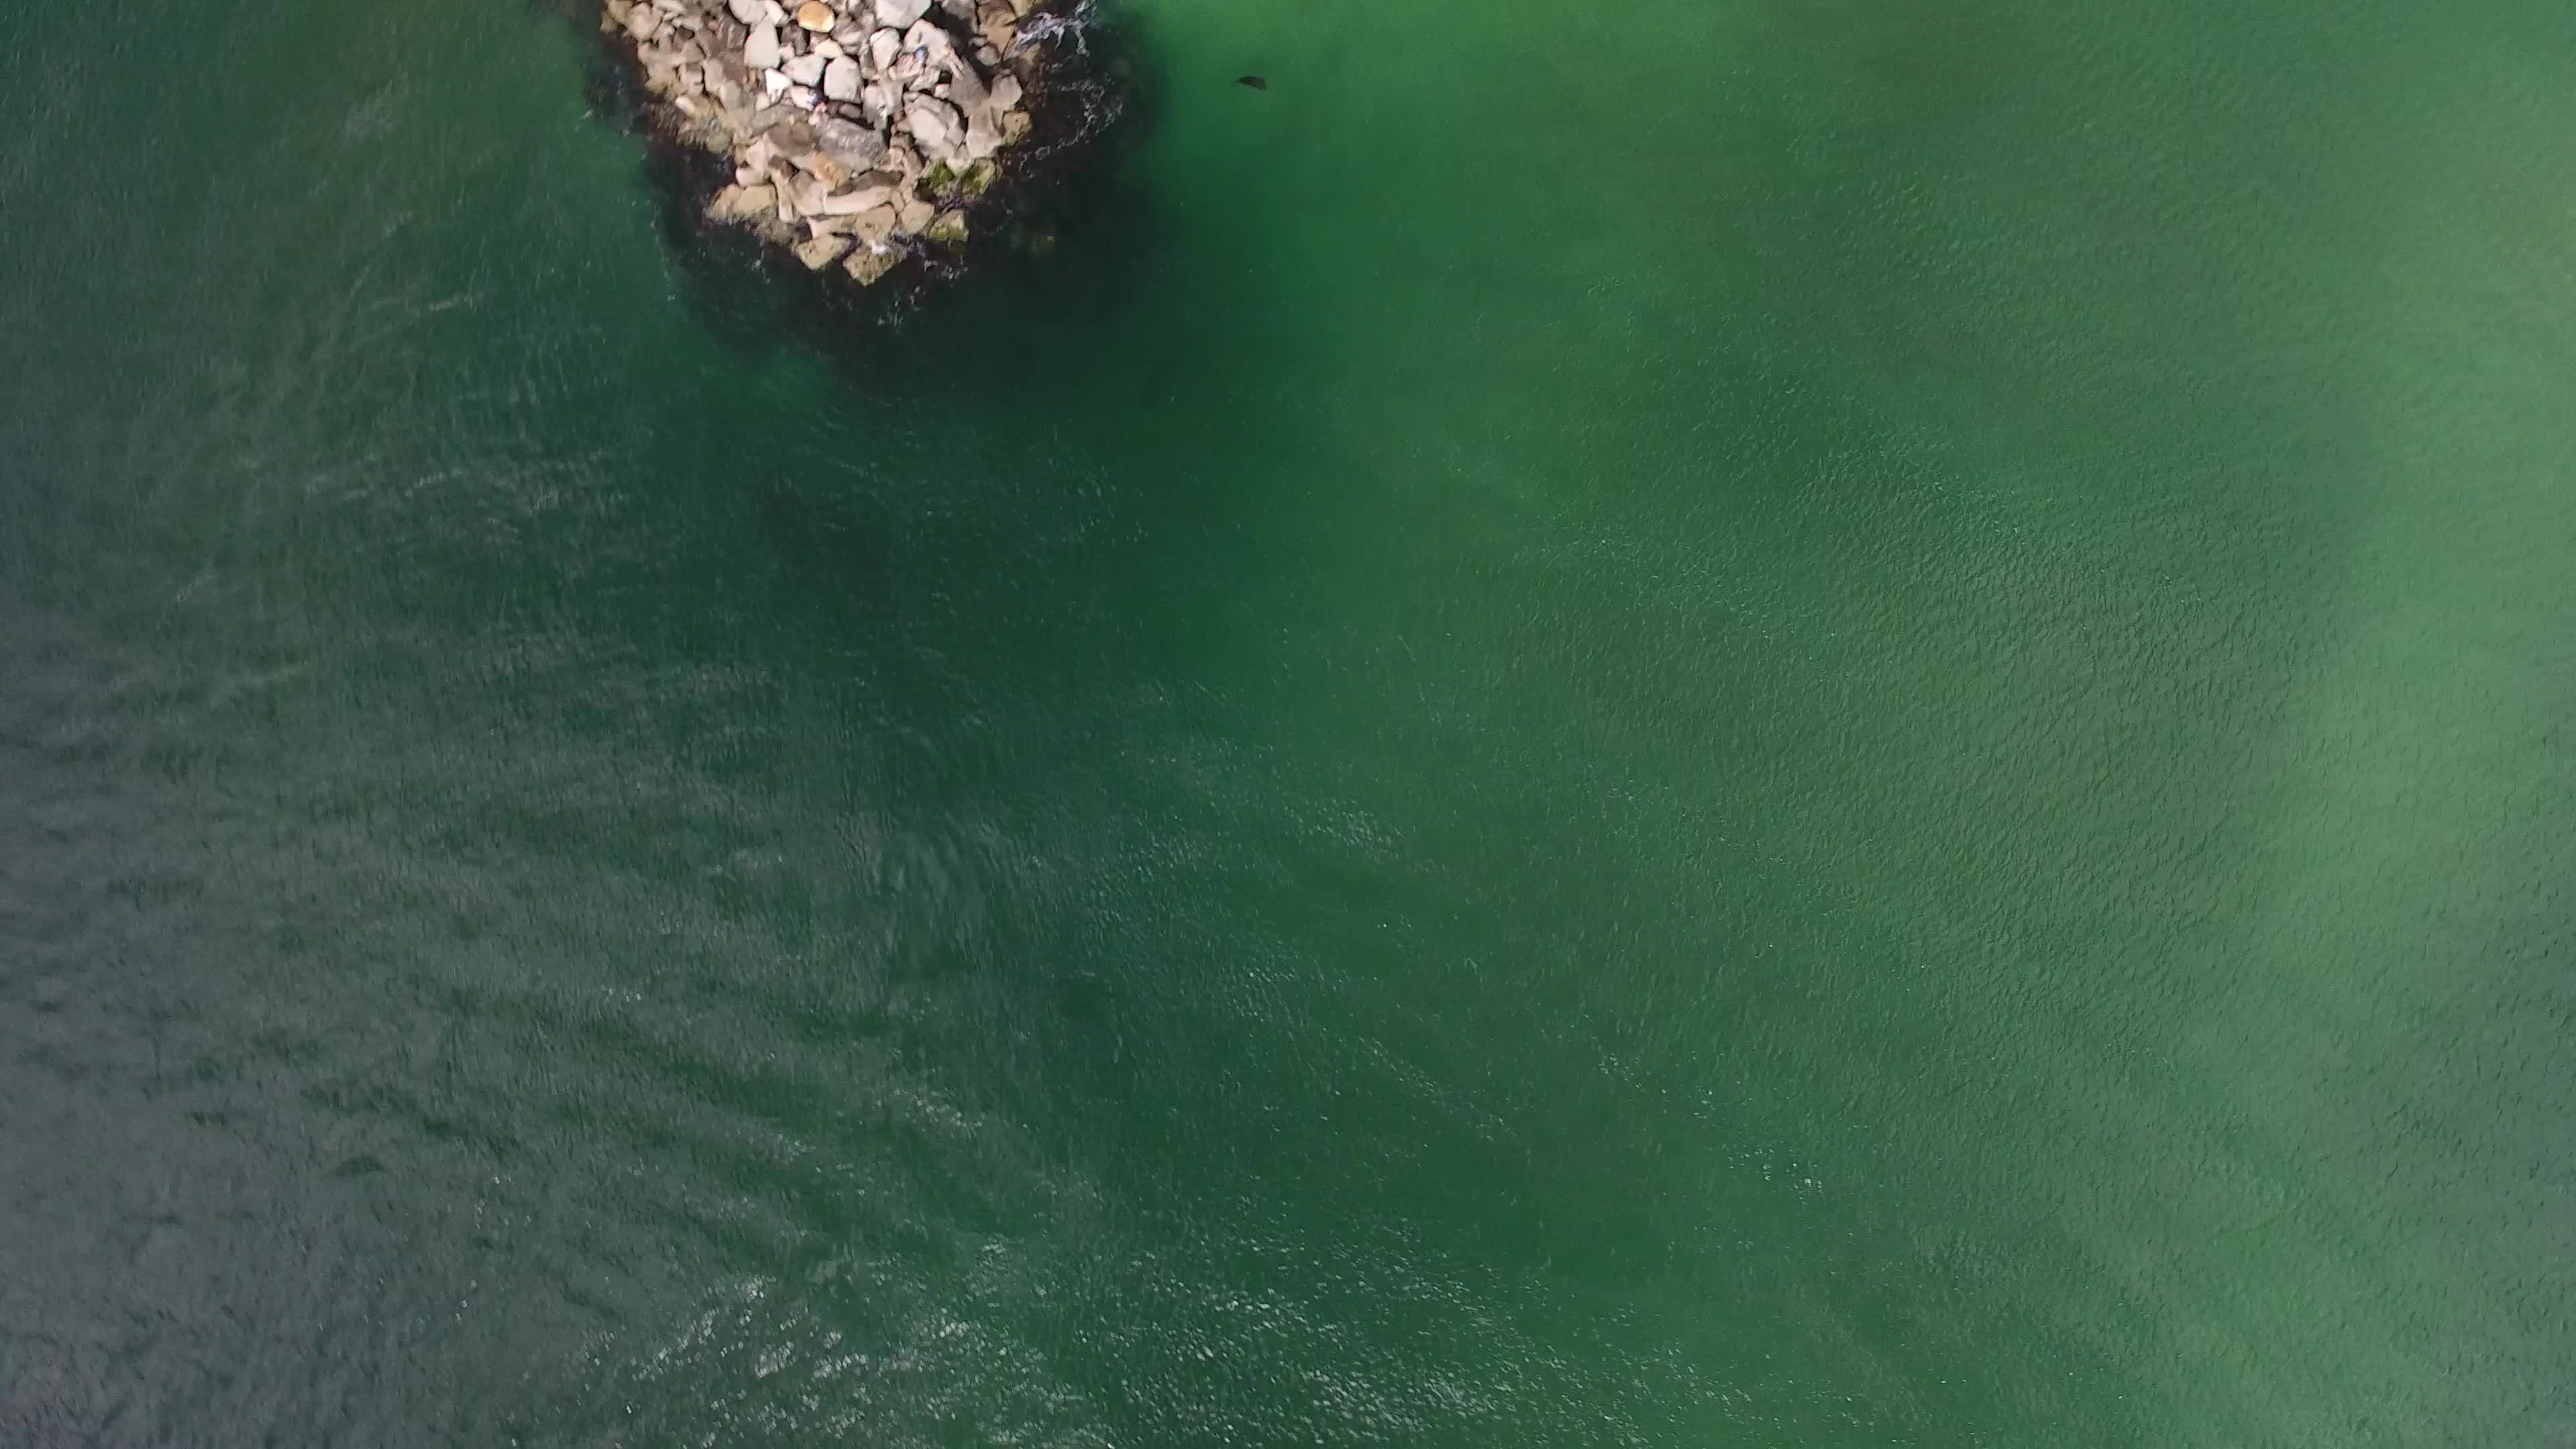dolphin: (1215, 53, 1284, 104)
